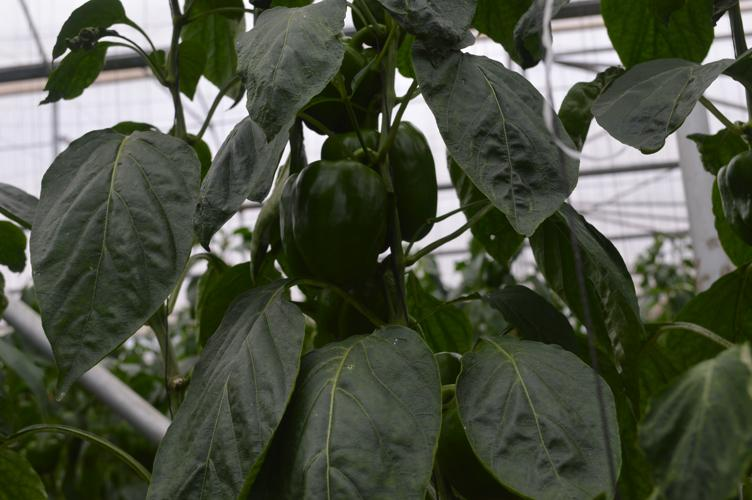BellPepper: (270, 156, 391, 290), (330, 122, 451, 250)
